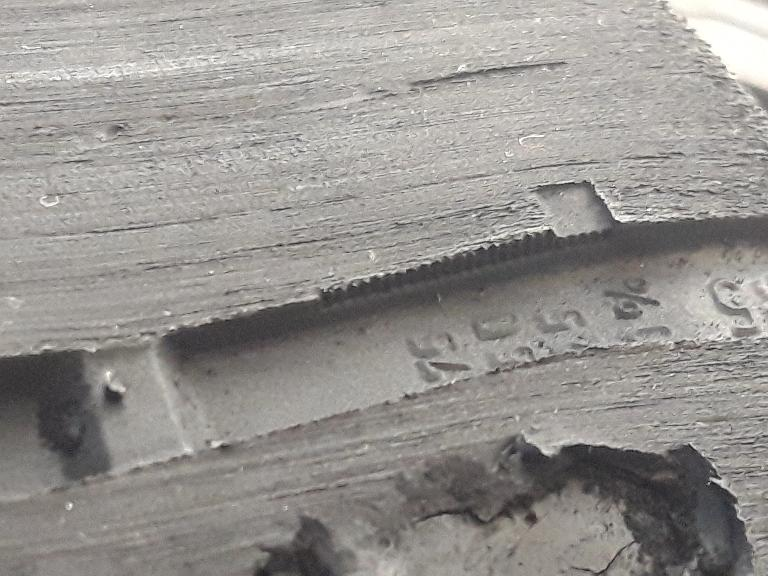temoin:0: (515, 162, 632, 284)
